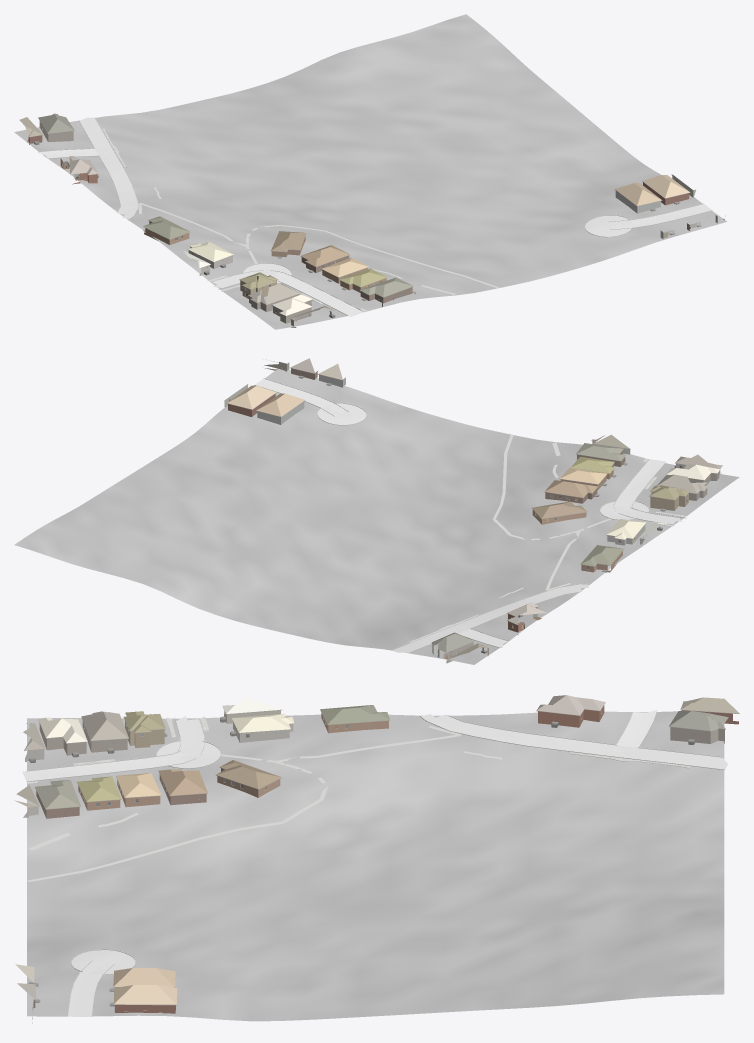
3 views of the same model, one above another, from view 1: azimuth 30°, elevation 25°; view 2: azimuth 150°, elevation 25°; view 3: azimuth 270°, elevation 25° (orthographic). The views are drawn at different scales.
Parts seen in each view (by area): view 1: ground, roof, concrete, wall, walk, detail, curb, wall_stucco; view 2: ground, roof, concrete, wall, walk, curb, detail, wall_stucco; view 3: ground, roof, concrete, wall, walk, curb, detail, wall_stone.
Part boxes in pixels (left/top/right/bottom): ground: left=14, top=14, right=727, bottom=329; roof: left=19, top=113, right=689, bottom=321; concrete: left=37, top=117, right=711, bottom=316; wall: left=27, top=121, right=717, bottom=323; walk: left=102, top=128, right=498, bottom=311; detail: left=29, top=118, right=724, bottom=320; curb: left=39, top=118, right=712, bottom=315; wall_stucco: left=199, top=174, right=695, bottom=275; ground: left=14, top=368, right=739, bottom=664; roof: left=227, top=358, right=722, bottom=657; concrete: left=255, top=379, right=682, bottom=652; wall: left=228, top=362, right=719, bottom=663; walk: left=409, top=435, right=687, bottom=642; curb: left=254, top=378, right=685, bottom=652; detail: left=226, top=361, right=720, bottom=657; wall_stucco: left=224, top=375, right=644, bottom=544; ground: left=27, top=711, right=724, bottom=1021; roof: left=14, top=695, right=739, bottom=1004; concrete: left=22, top=710, right=727, bottom=1016; wall: left=32, top=705, right=738, bottom=1023; walk: left=27, top=716, right=689, bottom=881; curb: left=23, top=710, right=724, bottom=1016; detail: left=24, top=703, right=739, bottom=1012; wall_stone: left=23, top=722, right=293, bottom=817.
Size of the model in its own units: 263 by 18.37 by 260.
